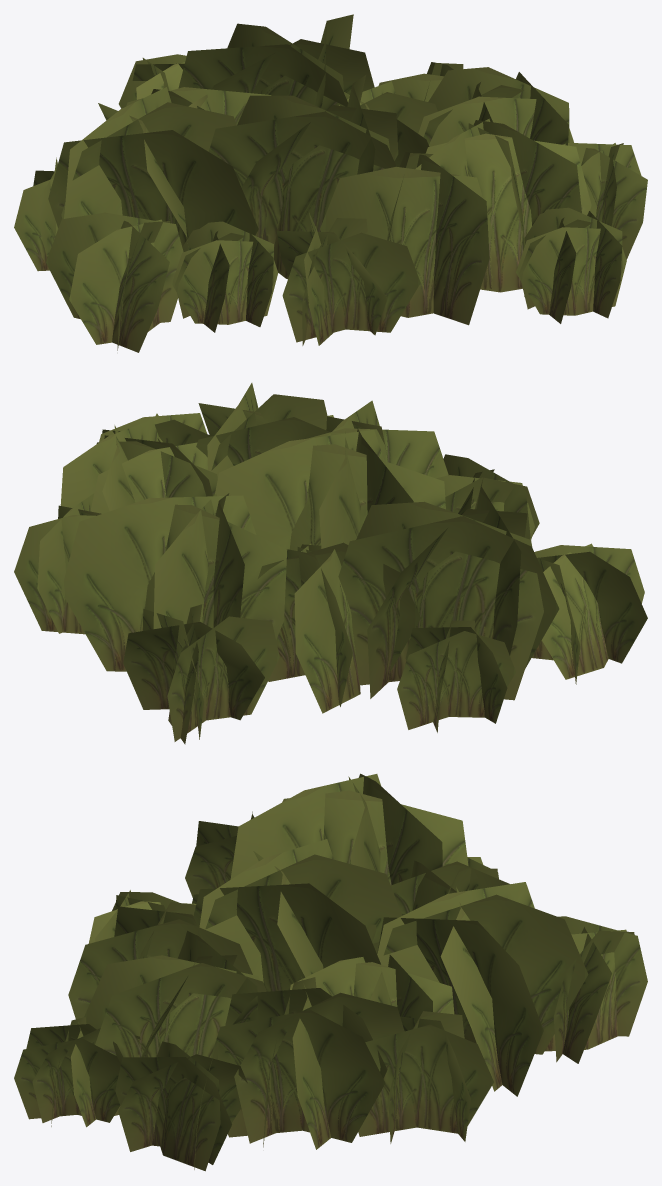
File: grassDungeon04lod0.dae
The picture shows the model from 3 angles, top to bottom: view 1: azimuth 30°, elevation 25°; view 2: azimuth 150°, elevation 25°; view 3: azimuth 270°, elevation 25°; orthographic projection. The views are drawn at different scales.
Parts seen in each view (by area): view 1: SM_Grass_Patch_04_LOD; view 2: SM_Grass_Patch_04_LOD; view 3: SM_Grass_Patch_04_LOD.
Part boxes in pixels (x1,y1,x2,y2): SM_Grass_Patch_04_LOD: (14, 14, 647, 352); SM_Grass_Patch_04_LOD: (14, 383, 647, 744); SM_Grass_Patch_04_LOD: (14, 773, 647, 1171).
Size of the model in its own units: 2.66 by 0.7745 by 2.53.
1 material, 1 textured.
